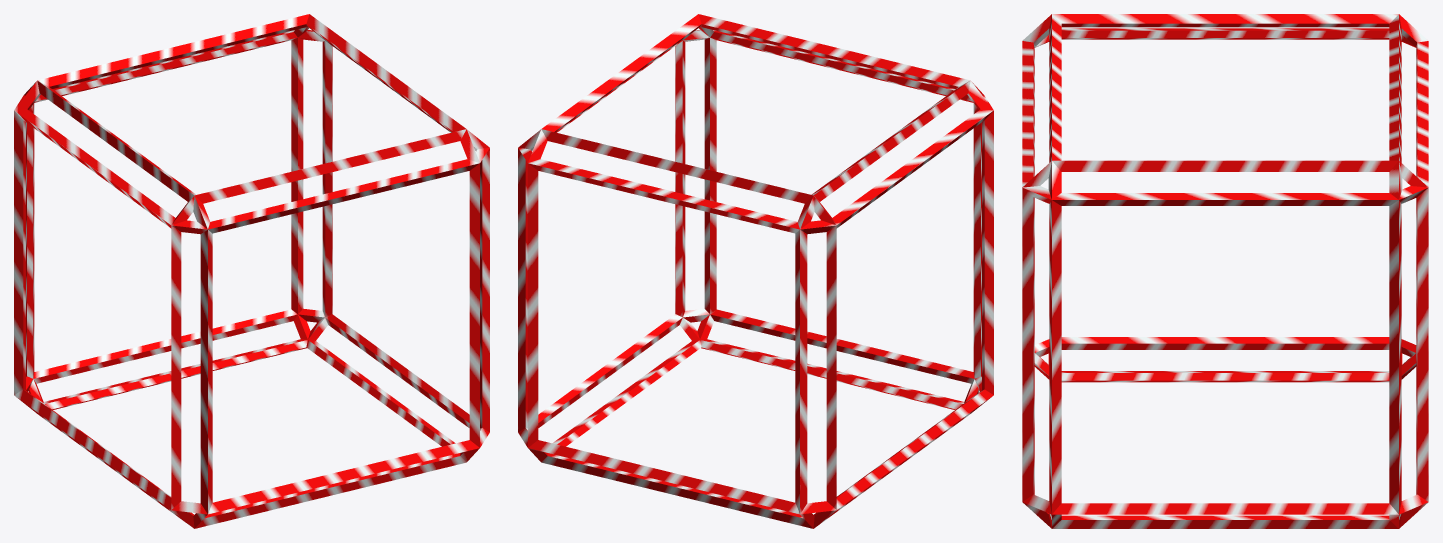
File: wiredCube.obj
3 renders of one model, left to right at view 1: azimuth 30°, elevation 25°; view 2: azimuth 150°, elevation 25°; view 3: azimuth 270°, elevation 25°, orthographic. The views are drawn at different scales.
Parts seen in each view (by area): view 1: Cube; view 2: Cube; view 3: Cube.
Boxes of the visible parts, left/top/right/bottom form: Cube: left=14, top=14, right=489, bottom=528; Cube: left=518, top=14, right=993, bottom=528; Cube: left=1022, top=14, right=1428, bottom=528.
Size of the model in its own units: 2 by 2 by 2.
